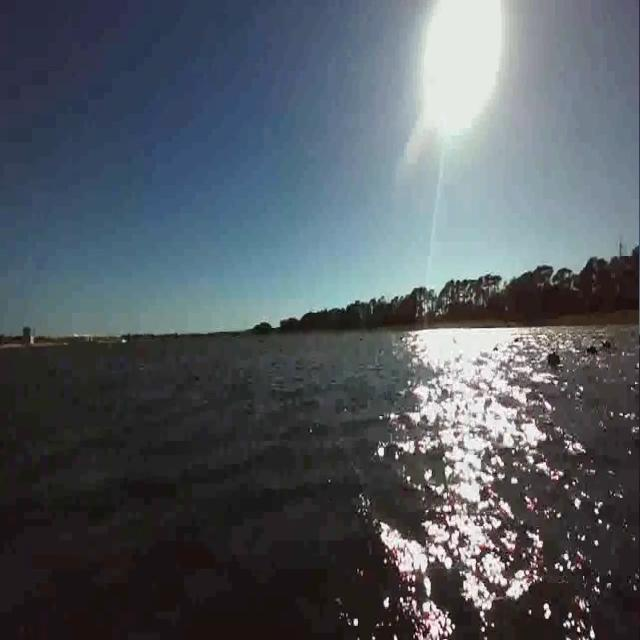black-buoy: (549, 351, 563, 367)
